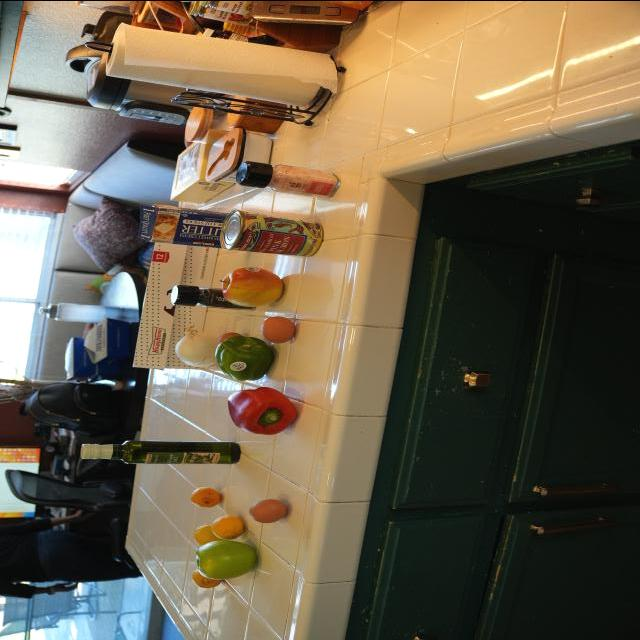bell_pepper: (228, 382, 301, 436), (217, 334, 273, 383), (168, 284, 260, 312)
egg: (249, 496, 291, 526), (262, 314, 304, 344)
onion: (174, 327, 226, 373)
